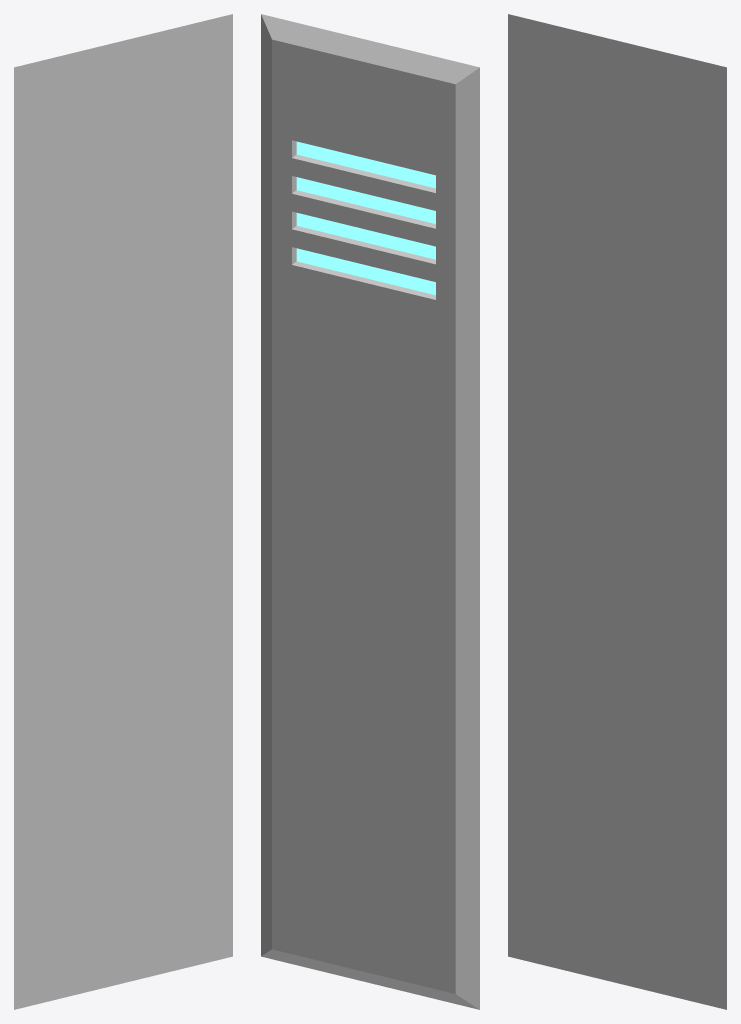
Rendered from dver1.fbx.
3 renders of one model, left to right at view 1: azimuth 30°, elevation 25°; view 2: azimuth 150°, elevation 25°; view 3: azimuth 330°, elevation 25°, orthographic.
Visible parts, largest first — view 1: Cube.021; view 2: Cube.021; view 3: Cube.021.
Part boxes in pixels (<box>): Cube.021: <box>14,14,232,1009</box>; Cube.021: <box>261,14,479,1009</box>; Cube.021: <box>508,14,726,1009</box>.
Bounding box in the file's own units: 0.4608 × 1.9 × 0.0241.
